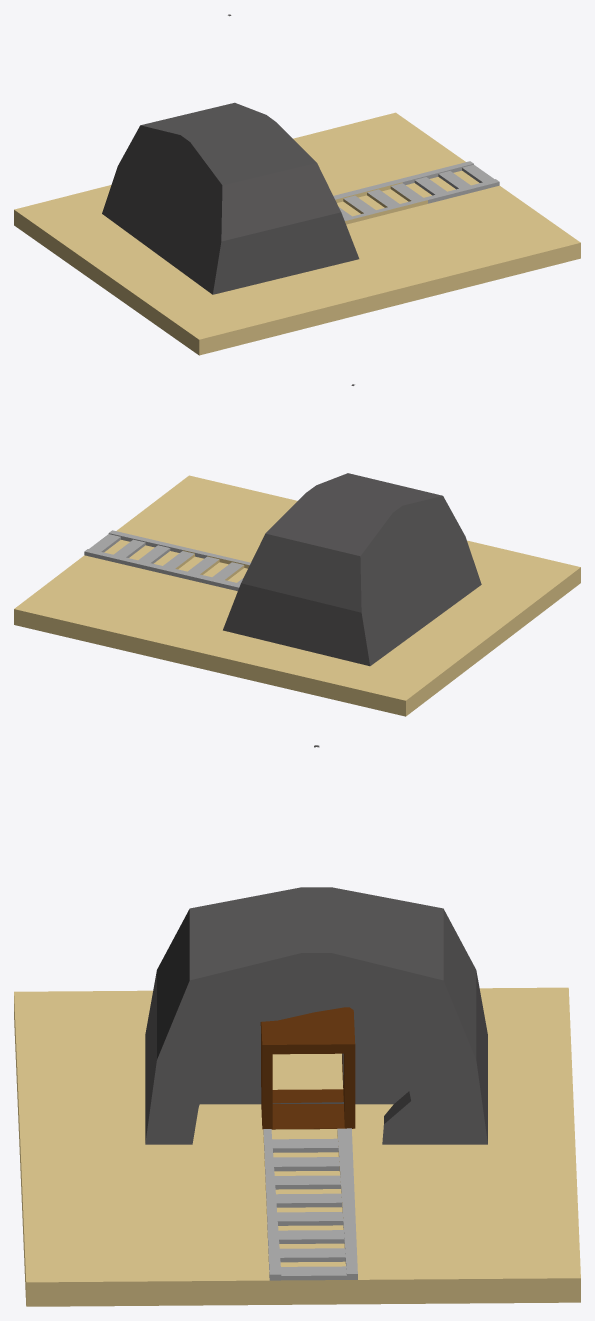
File: mine.fbx
The picture shows the model from 3 angles, top to bottom: view 1: azimuth 30°, elevation 25°; view 2: azimuth 150°, elevation 25°; view 3: azimuth 270°, elevation 25°; orthographic projection. The views are drawn at different scales.
Visible parts, largest first — view 1: Plane.001; view 2: Plane.001; view 3: Plane.001.
Boxes of the visible parts, x1,y1,x2,y2 form: Plane.001: [14, 14, 580, 355]; Plane.001: [14, 384, 580, 716]; Plane.001: [14, 745, 580, 1306].
Size of the model in its own units: 673 by 390 by 547.
